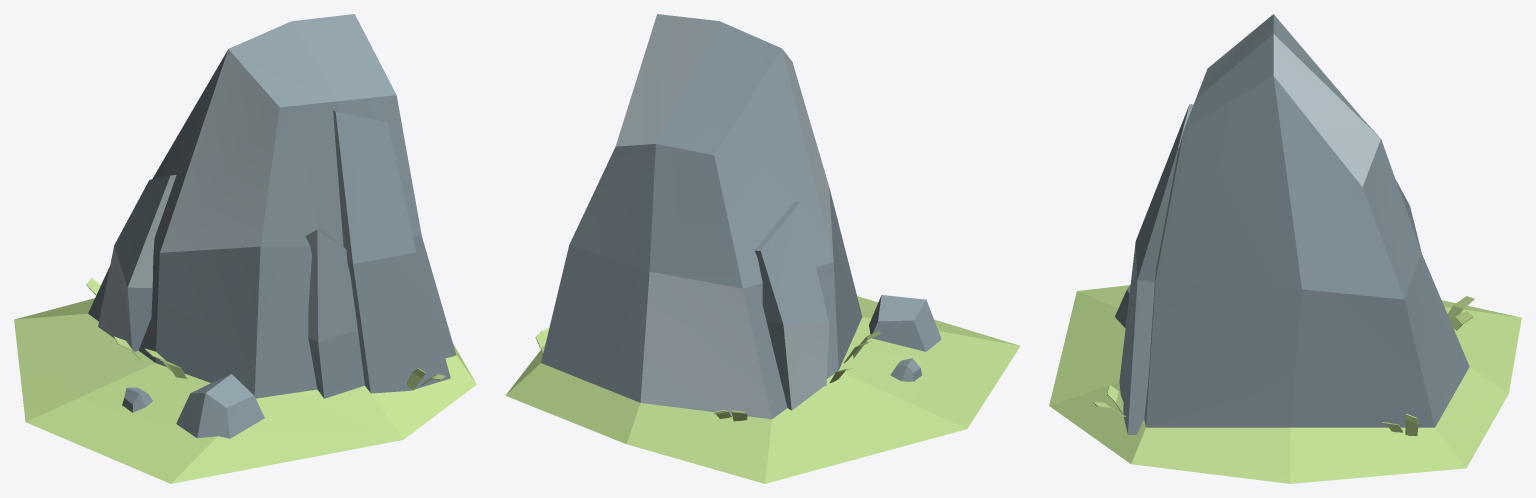
File: boulder_03.gltf
3 views of the same model, side by side, from view 1: azimuth 30°, elevation 25°; view 2: azimuth 150°, elevation 25°; view 3: azimuth 270°, elevation 25° (orthographic). The views are drawn at different scales.
Parts seen in each view (by area): view 1: node-0; view 2: node-0; view 3: node-0.
Part boxes in pixels (left/top/right/bottom): node-0: left=14, top=14, right=476, bottom=483; node-0: left=505, top=14, right=1020, bottom=483; node-0: left=1049, top=14, right=1521, bottom=483.
Bounding box in the file's own units: 250 × 198 × 230.
